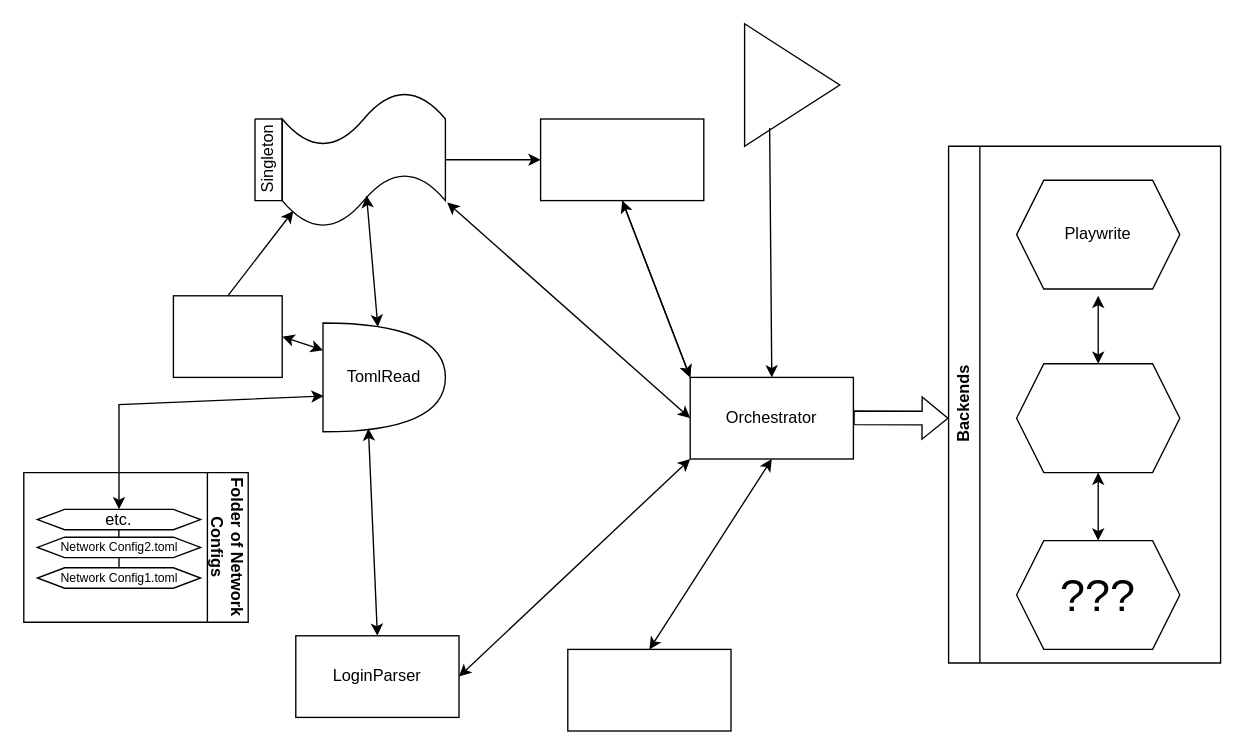
This 1244x755 diagram has some shape labels left out. The shapes that lost their labels are listed below. From the top down, each one's centre as x and y in pixels, then its label:
(791,84): Main
(363,159): ConfigParser
(621,159): ConfigDistributor
(227,335): Config.TOML
(1097,417): Barebones (requests+Beautiful Soup)
(648,689): keystorer
